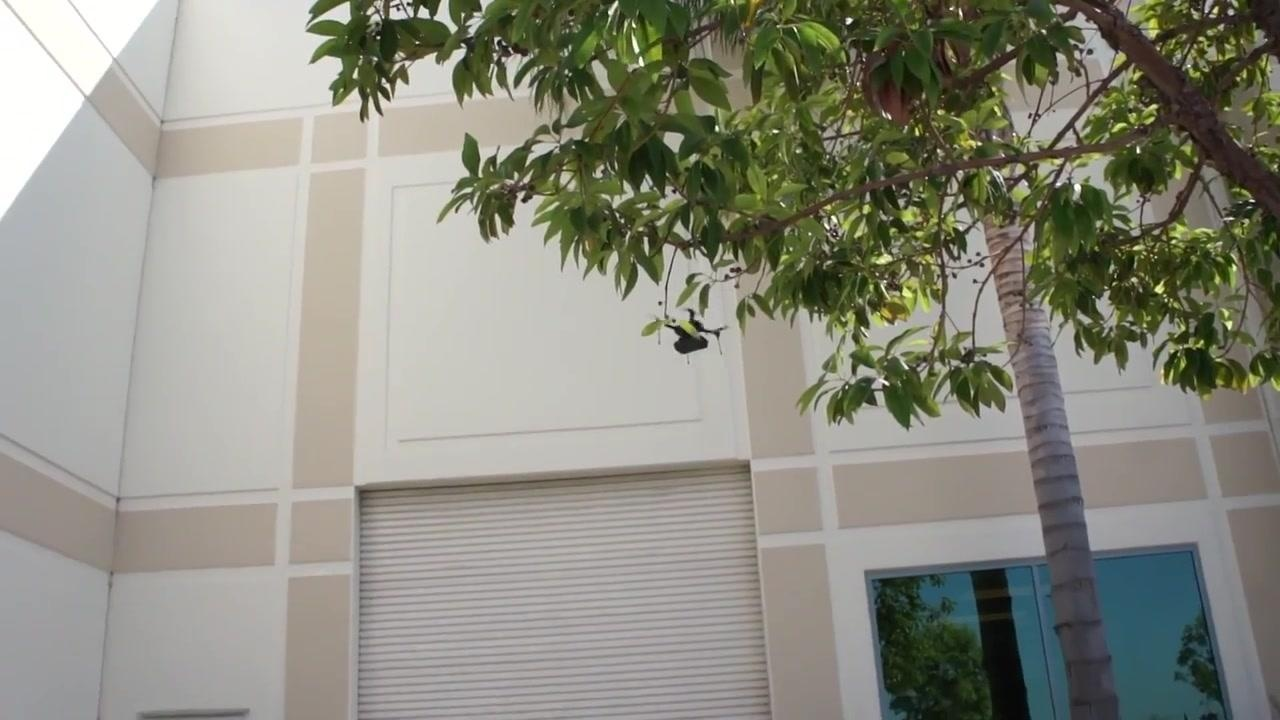UAV: (656, 309, 730, 356)
